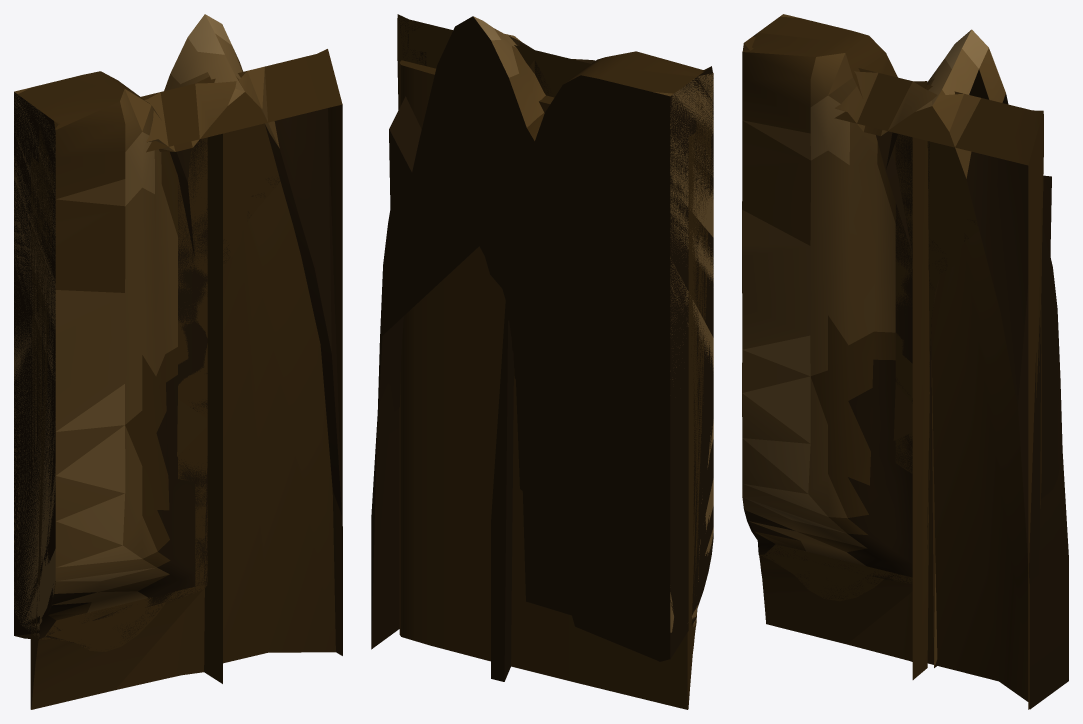
File: ixm_wall_end_r_low.glb
The picture shows the model from 3 angles, left to right: view 1: azimuth 30°, elevation 25°; view 2: azimuth 150°, elevation 25°; view 3: azimuth 330°, elevation 25°; orthographic projection. The views are drawn at different scales.
Parts seen in each view (by area): view 1: ixm_wall_end_r_low_rock_rock, ixm_wall_end_r_low_rock_back_end_r, ixm_wall_end_r_low_rock_end_r, ixm_wall_end_r_low_rock_back_rock; view 2: ixm_wall_end_r_low_rock_end_r, ixm_wall_end_r_low_rock_rock, ixm_wall_end_r_low_rock_back_end_r, ixm_wall_end_r_low_rock_back_rock; view 3: ixm_wall_end_r_low_rock_rock, ixm_wall_end_r_low_rock_back_end_r, ixm_wall_end_r_low_rock_end_r, ixm_wall_end_r_low_rock_back_rock.
Boxes of the visible parts, x1,y1,x2,y2 form: ixm_wall_end_r_low_rock_rock: [14, 71, 207, 638]; ixm_wall_end_r_low_rock_back_end_r: [30, 49, 342, 709]; ixm_wall_end_r_low_rock_end_r: [14, 14, 342, 655]; ixm_wall_end_r_low_rock_back_rock: [31, 76, 222, 709]; ixm_wall_end_r_low_rock_end_r: [371, 16, 713, 661]; ixm_wall_end_r_low_rock_rock: [491, 51, 713, 681]; ixm_wall_end_r_low_rock_back_end_r: [397, 14, 711, 709]; ixm_wall_end_r_low_rock_back_rock: [519, 43, 709, 708]; ixm_wall_end_r_low_rock_rock: [742, 14, 937, 667]; ixm_wall_end_r_low_rock_back_end_r: [759, 68, 1043, 709]; ixm_wall_end_r_low_rock_end_r: [742, 29, 1068, 709]; ixm_wall_end_r_low_rock_back_rock: [759, 79, 929, 679].
Size of the model in its own units: 10 by 21.03 by 2.5.
